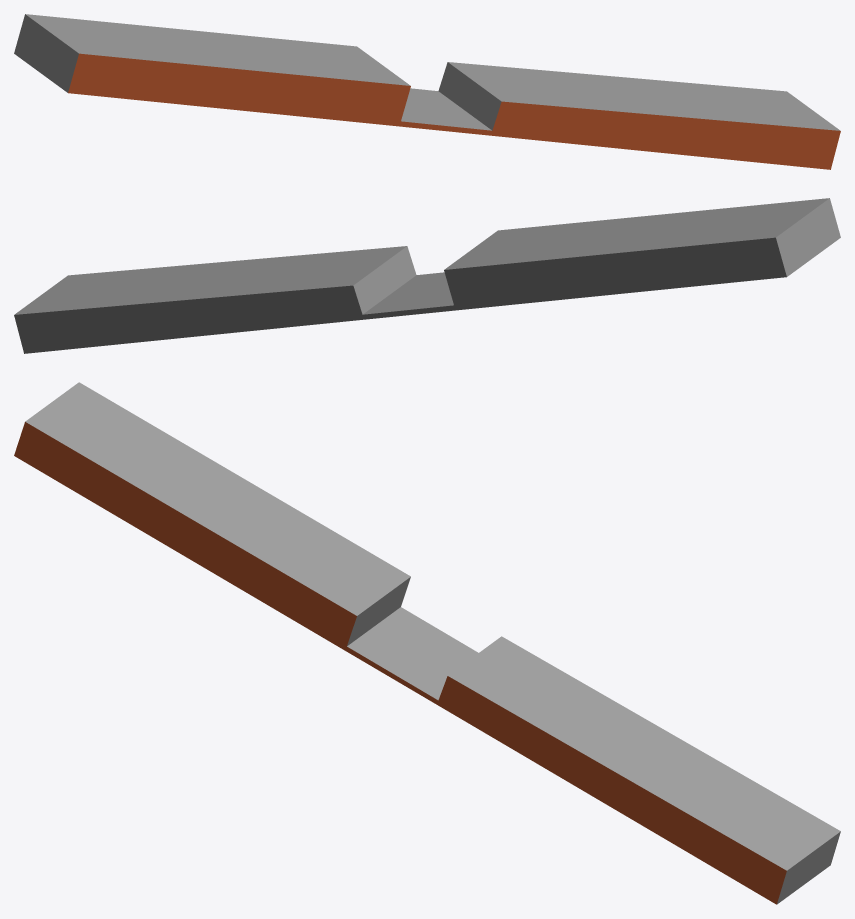
The model's file is construction_0006_assumed_A_Cais_de_acesso_ferroviario_h6m.obj.
3 views of the same model, one above another, from view 1: azimuth 30°, elevation 25°; view 2: azimuth 150°, elevation 25°; view 3: azimuth 330°, elevation 25° (orthographic).
Parts seen in each view (by area): view 1: construction_0006_assumed_A_Cais_de_acesso_ferroviario; view 2: construction_0006_assumed_A_Cais_de_acesso_ferroviario; view 3: construction_0006_assumed_A_Cais_de_acesso_ferroviario.
Boxes of the visible parts, bbox=[...] form: construction_0006_assumed_A_Cais_de_acesso_ferroviario: bbox=[14, 14, 840, 169]; construction_0006_assumed_A_Cais_de_acesso_ferroviario: bbox=[14, 198, 840, 353]; construction_0006_assumed_A_Cais_de_acesso_ferroviario: bbox=[14, 382, 840, 904].
Bounding box in the file's own units: 49.56 × 18.36 × 6.
